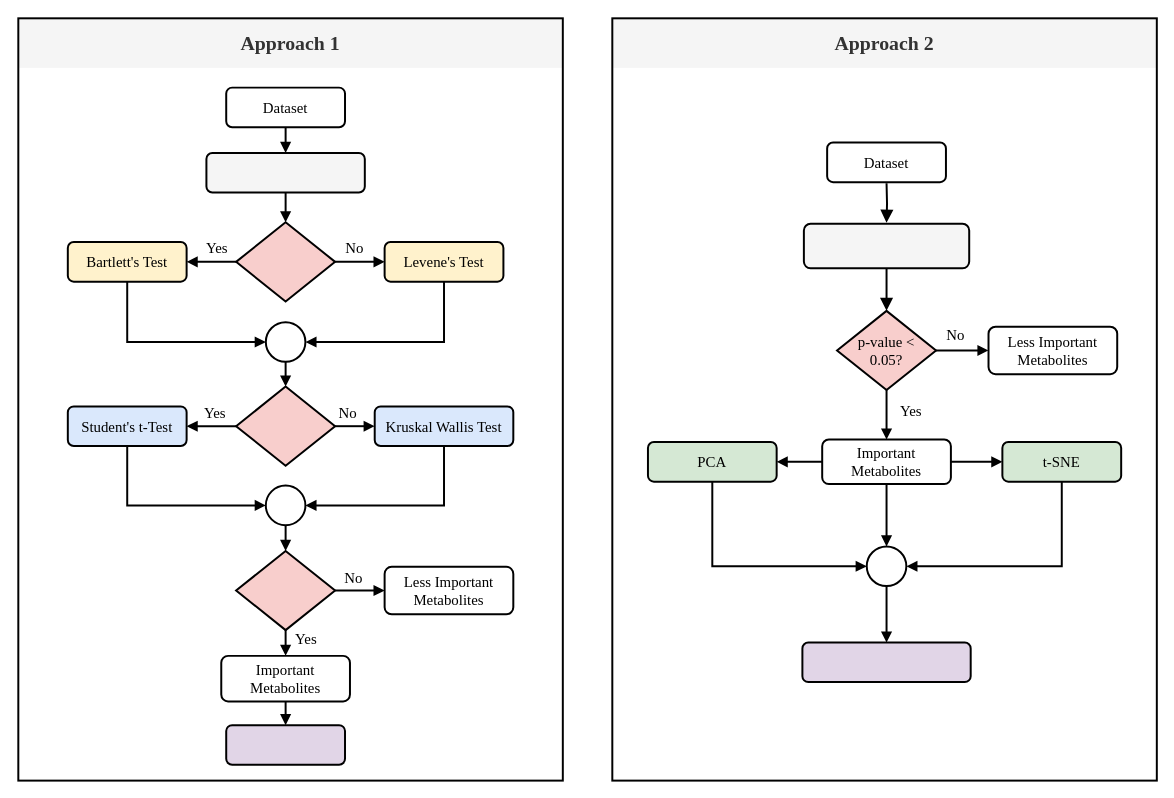
This 1174x798 diagram has some shape labels left out. The centre of each missing label's shape, as x and y in pixels:
"Equal Variances?" belongs at (285,425).
"Normally Distributed?" belongs at (285,261).
"p-value < 0.01?" belongs at (285,590).
"Pearson's correlation coefficient" belongs at (886,245).
"Random Forest Classifier" belongs at (886,662).
"Ridge Classifier" belongs at (285,744).
"Shapiro–Wilk Test" belongs at (285,172).
